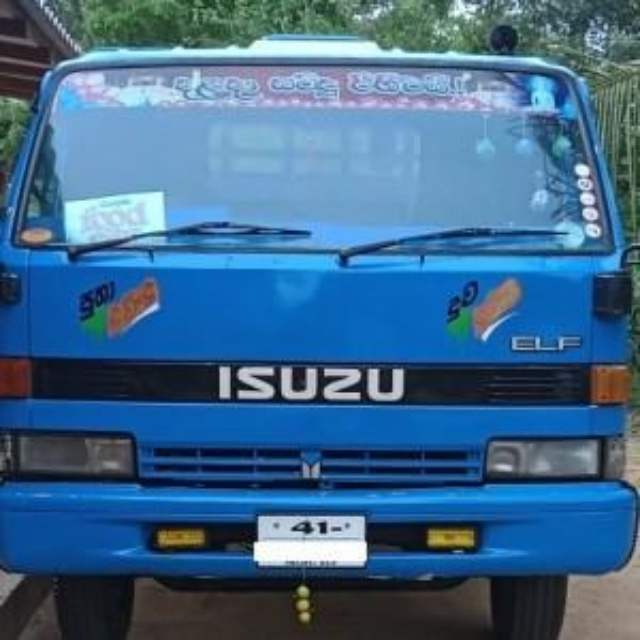Truck: (2, 34, 640, 640)
